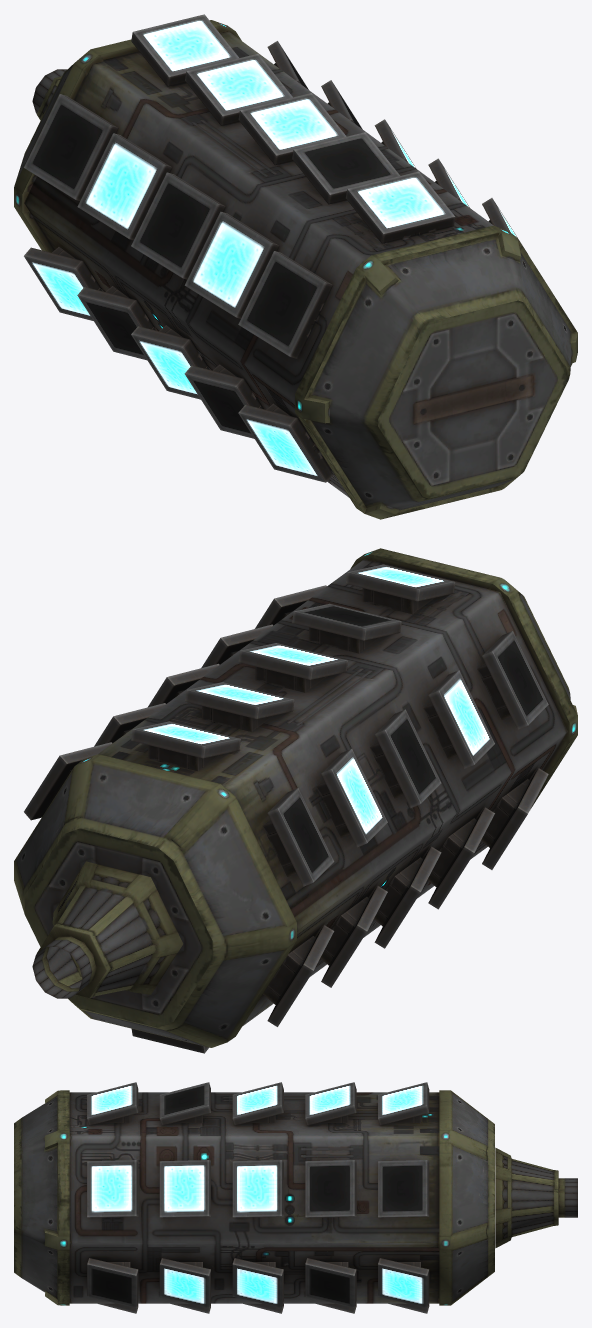
The model's file is 02_07_data_stack.DAE.
3 views of the same model, one above another, from view 1: azimuth 30°, elevation 25°; view 2: azimuth 150°, elevation 25°; view 3: azimuth 270°, elevation 25° (orthographic). The views are drawn at different scales.
Parts seen in each view (by area): view 1: _2_07_data_stack; view 2: _2_07_data_stack; view 3: _2_07_data_stack.
Boxes of the visible parts, x1=… form: _2_07_data_stack: x1=14, y1=14, x2=577, y2=519; _2_07_data_stack: x1=14, y1=548, x2=577, y2=1053; _2_07_data_stack: x1=14, y1=1082, x2=577, y2=1313.
Bounding box in the file's own units: 193 × 480 × 195.
